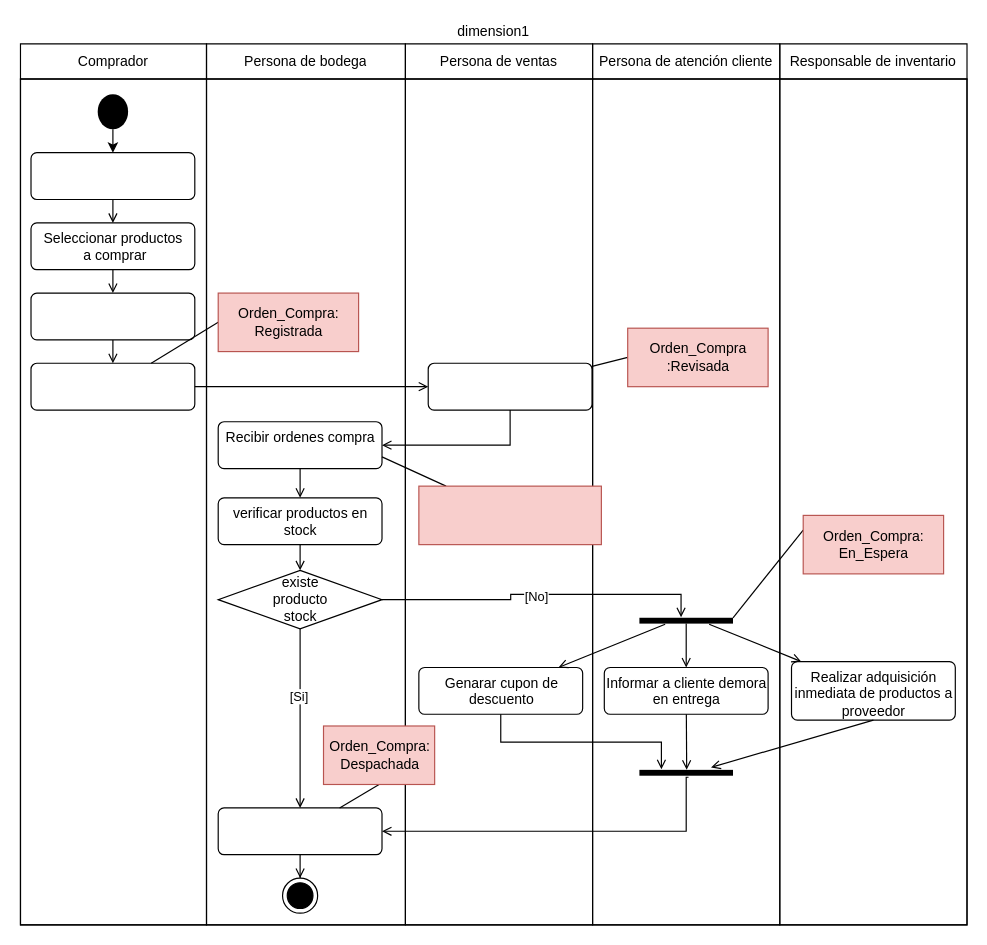
Some shapes in this 987 by 945 pixel diagram are drawn without their labels. Each missing label, with the box of its shape:
Ingresar a tienda virtual: (30, 152, 195, 199)
Orden_Compra: Pendiente_Despacho: (418, 485, 601, 545)
Pagar valor de compra: (30, 362, 195, 410)
Realizar despacho de ordenes de pago: (217, 807, 382, 855)
Revisar factura: (427, 362, 592, 410)
Ver detalle factura: (30, 292, 195, 340)
